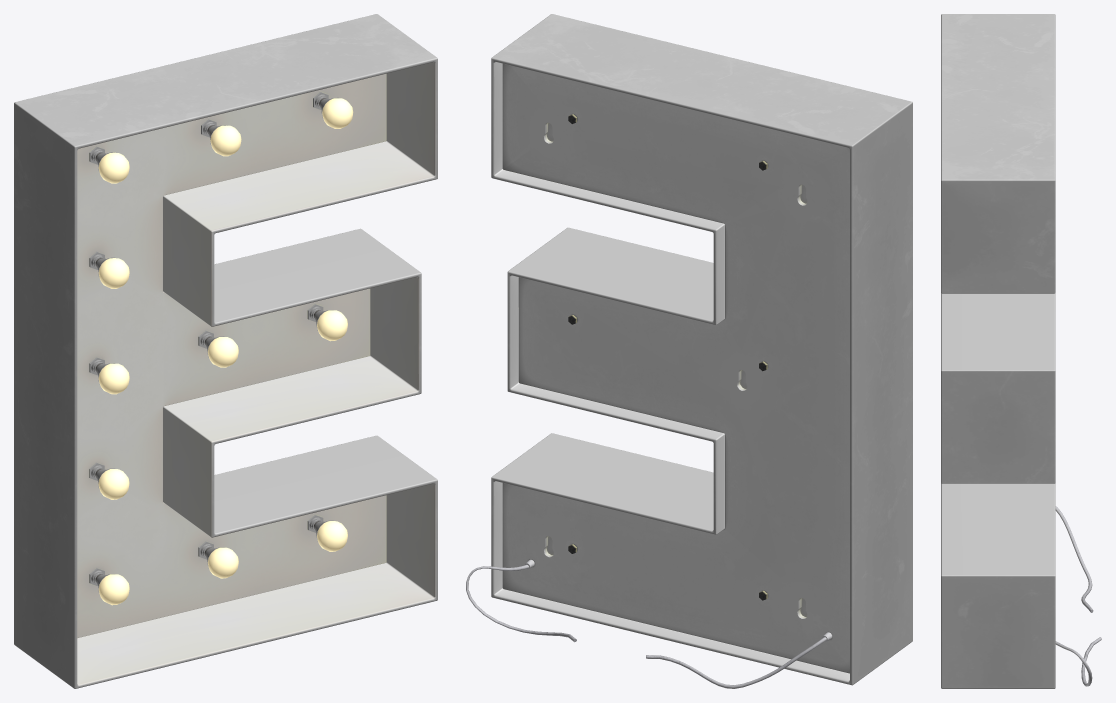
Rendered from E_Letter_bulbs_bake_light_5.glb.
The picture shows the model from 3 angles, left to right: view 1: azimuth 30°, elevation 25°; view 2: azimuth 150°, elevation 25°; view 3: azimuth 270°, elevation 25°; orthographic projection. The views are drawn at different scales.
Visible parts, largest first — view 1: E_bulb, Bulbs; view 2: E_bulb; view 3: E_bulb.
Boxes of the visible parts, <box> form: E_bulb: <box>14,14,437,688</box>; Bulbs: <box>98,98,353,605</box>; E_bulb: <box>466,14,912,688</box>; E_bulb: <box>941,14,1101,688</box>.
Size of the model in its own units: 0.6596 by 0.9474 by 0.2639.
Materials: 2 (1 with a texture image).
